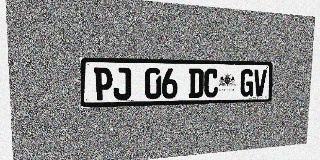0: (145, 68, 161, 99)
6: (162, 68, 178, 99)
C: (204, 69, 219, 98)
D: (188, 68, 204, 98)
G: (240, 69, 254, 97)
J: (113, 68, 131, 100)
P: (94, 67, 113, 101)
V: (253, 69, 267, 96)
